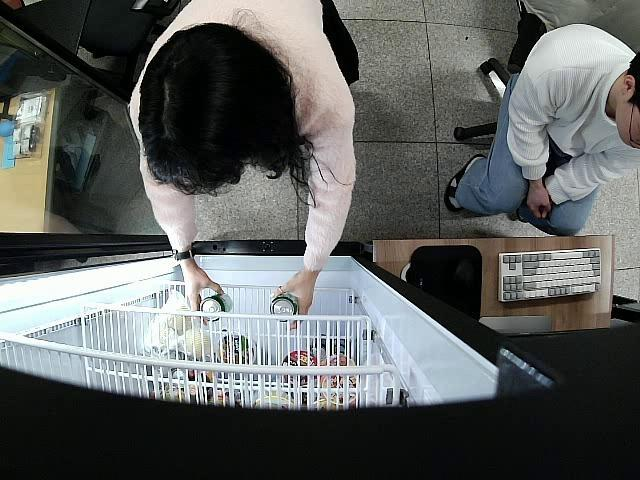12_chilsungCider: (200, 294, 234, 324), (270, 292, 298, 324)
